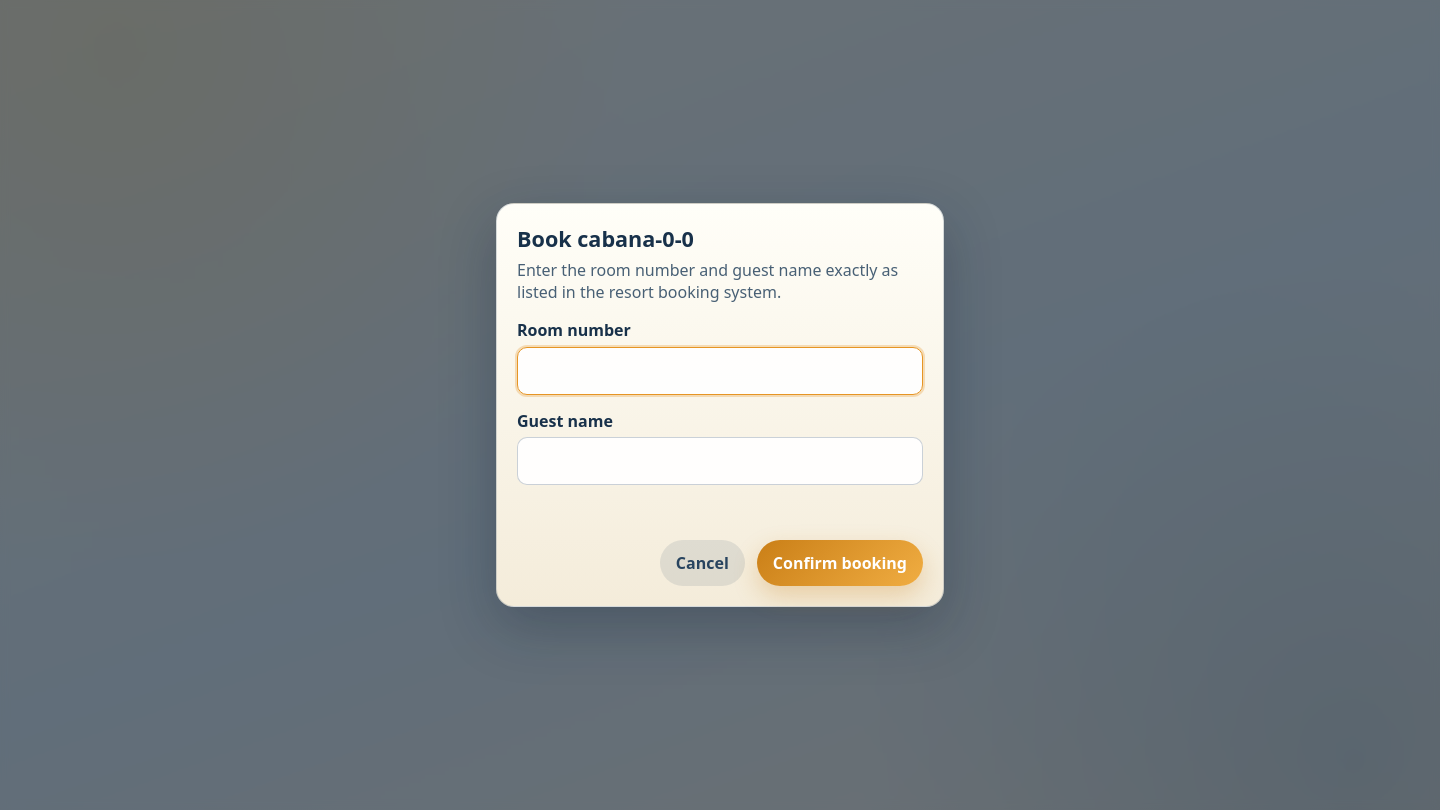
Test: BookingModal › validates room number format before submit
Type "10A" into the field labelled "Room number" at (720, 370), box [517,346,923,394]
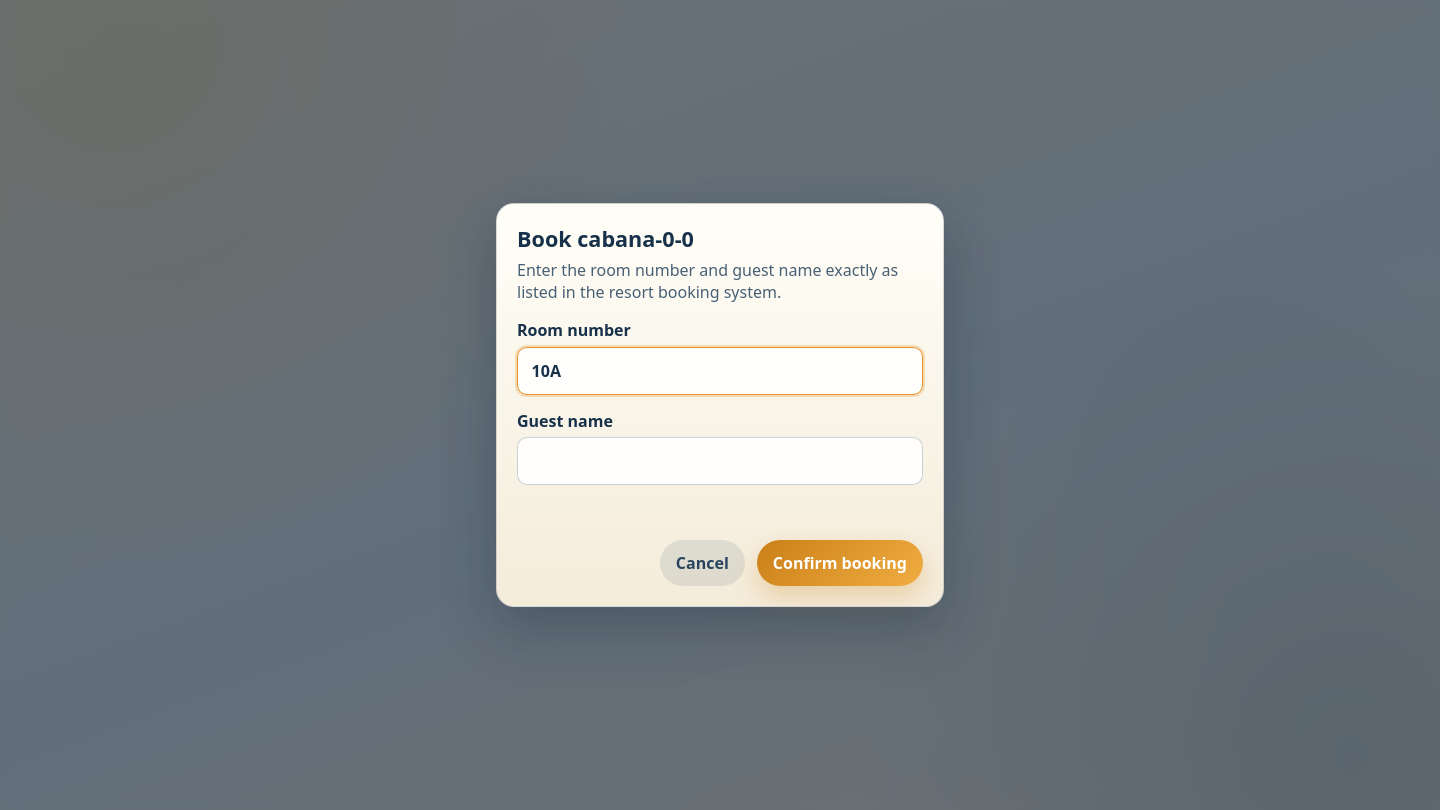
Type "Alex Guest" into the field labelled "Guest name" at (720, 461), box [517,437,923,485]
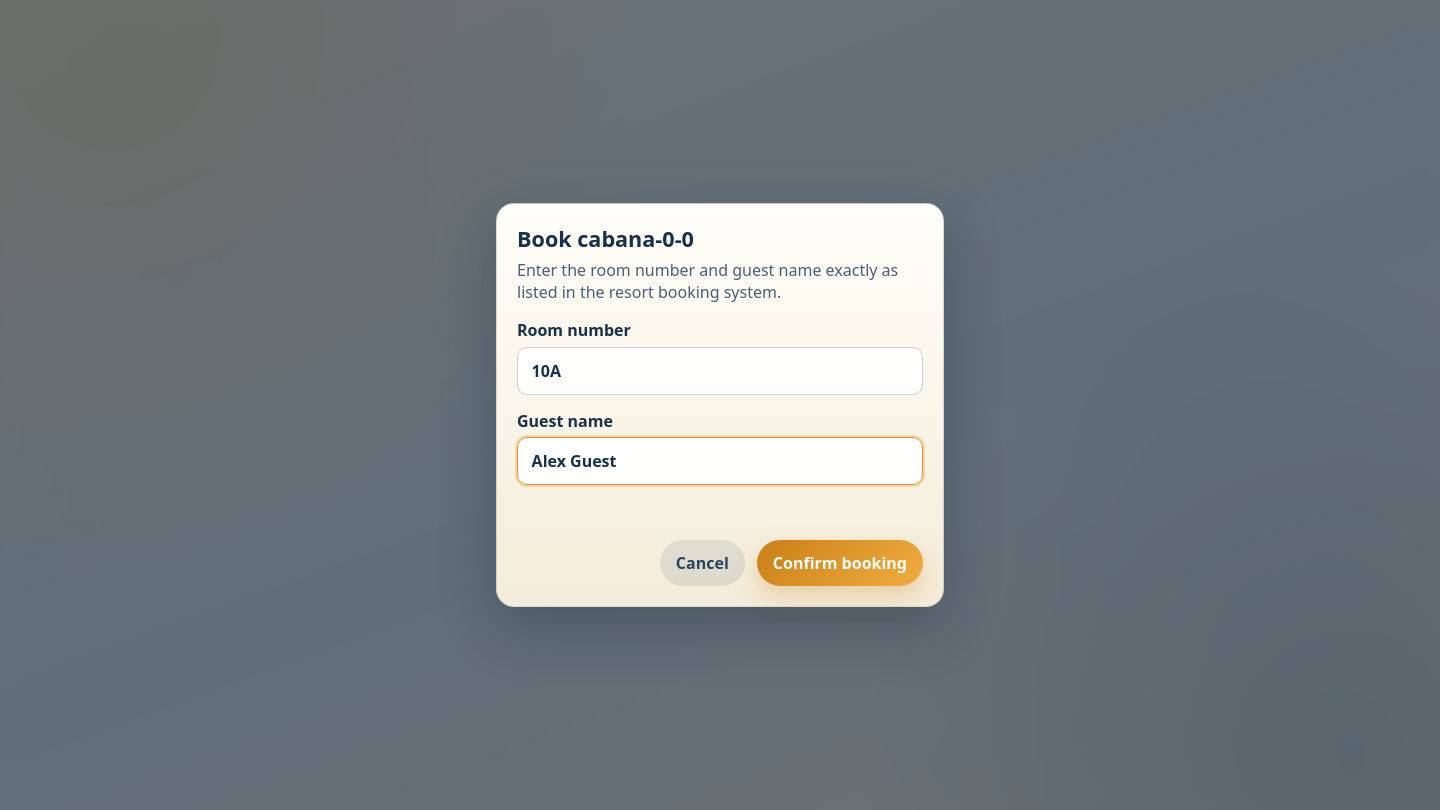
Click the button "Confirm booking" at (840, 563), box [757,540,923,586]
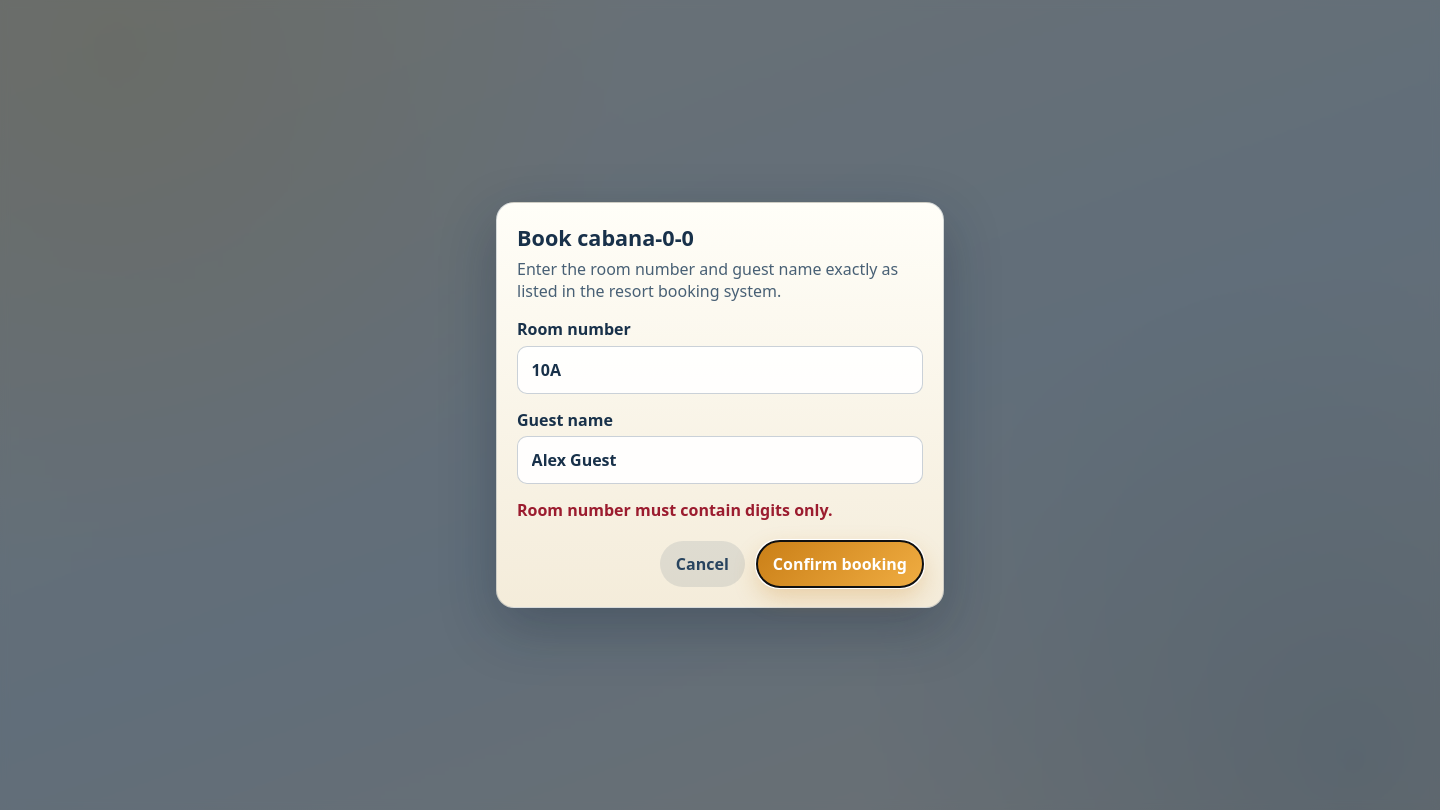
Check: the text "Room number must contain digits only." is shown, box [517,500,832,522]
